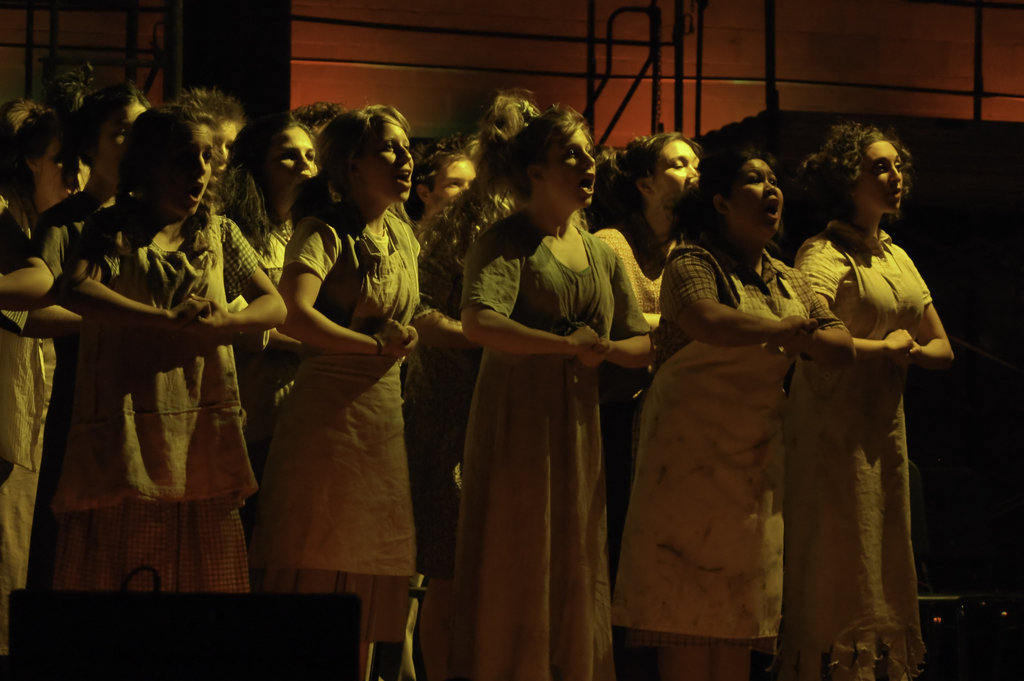face: (850, 138, 908, 213)
